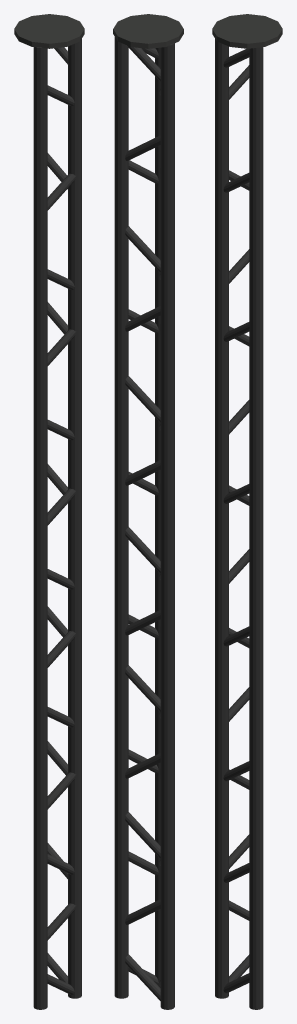
The model's file is pole.fbx.
3 views of the same model, side by side, from view 1: azimuth 90°, elevation 25°; view 2: azimuth 150°, elevation 25°; view 3: azimuth 270°, elevation 25° (orthographic).
Parts seen in each view (by area): view 1: Cylinder; view 2: Cylinder; view 3: Cylinder.
Boxes of the visible parts, box(x1,y1,x2,y2) form: Cylinder: box(14, 14, 84, 1009); Cylinder: box(113, 14, 183, 1009); Cylinder: box(212, 14, 282, 1009).
Bounding box in the file's own units: 0.7973 × 12.06 × 0.7973.
